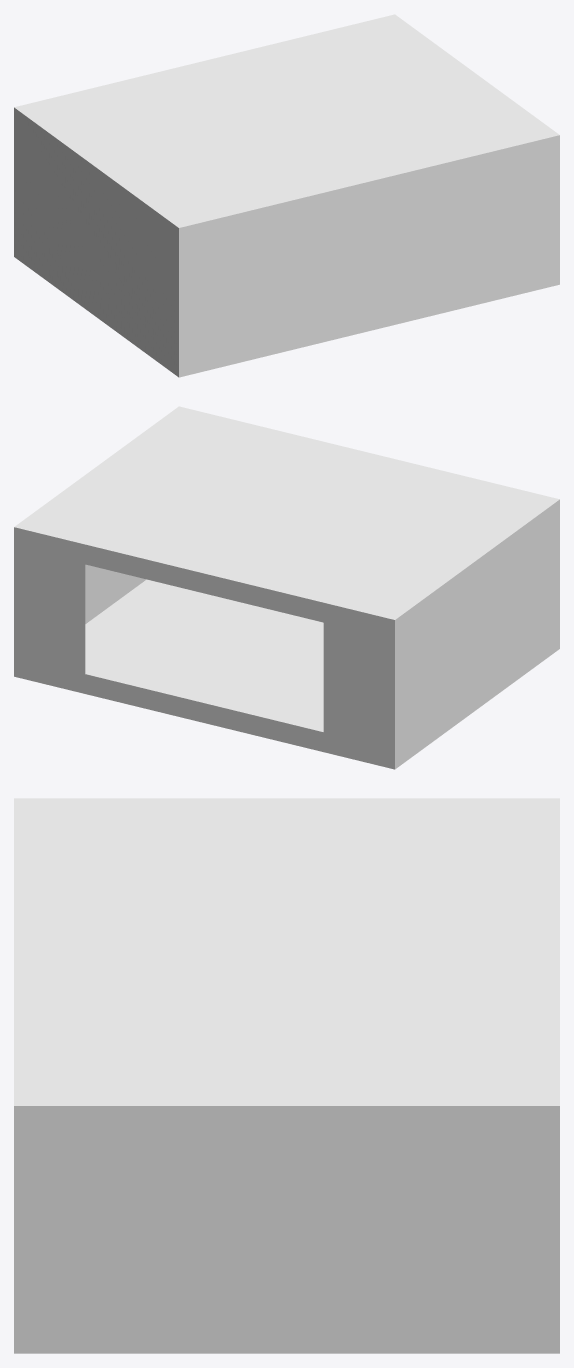
The model's file is room.glb.
The picture shows the model from 3 angles, top to bottom: view 1: azimuth 30°, elevation 25°; view 2: azimuth 150°, elevation 25°; view 3: azimuth 270°, elevation 25°; orthographic projection. The views are drawn at different scales.
Parts seen in each view (by area): view 1: static; view 2: static; view 3: static.
Part boxes in pixels (bbox=[...]): static: bbox=[14, 14, 559, 377]; static: bbox=[14, 406, 559, 769]; static: bbox=[14, 798, 559, 1353].
Size of the model in its own units: 8 by 3 by 6.
Materials: 5 (5 with a texture image).
